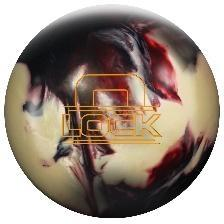Sports-Ball: (5, 8, 218, 218)
